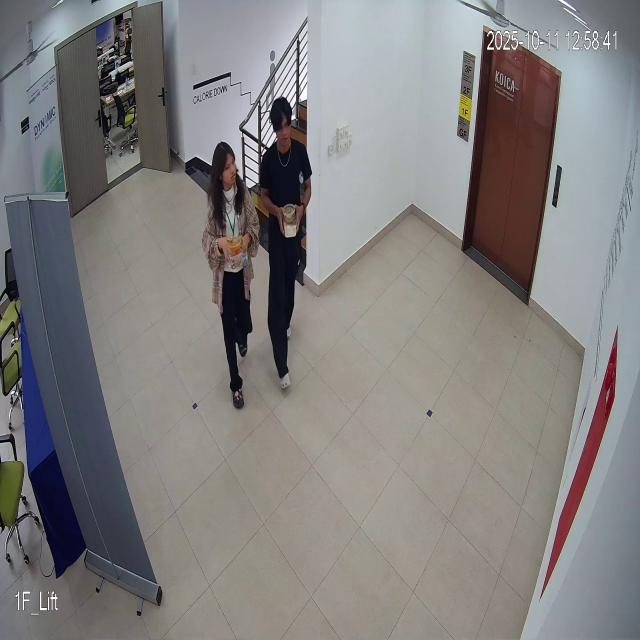face: (268, 94, 298, 161), (210, 134, 239, 193)
